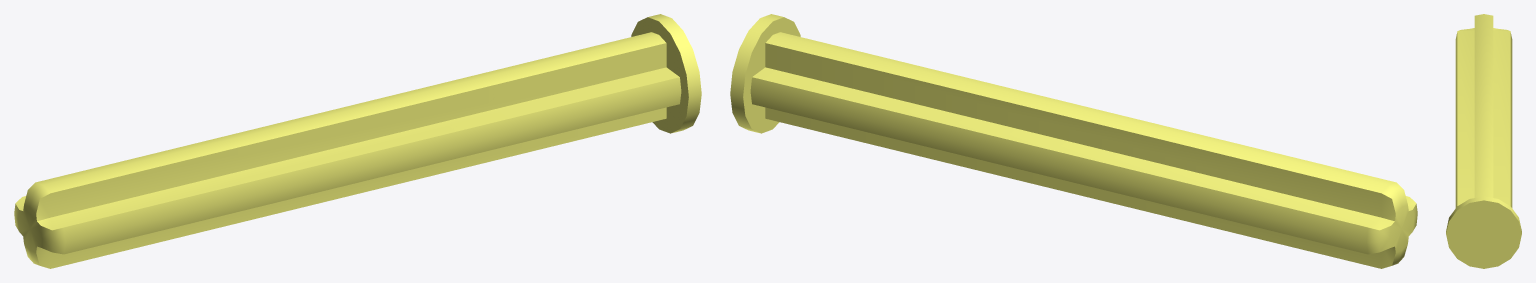
3 renders of one model, left to right at view 1: azimuth 30°, elevation 25°; view 2: azimuth 150°, elevation 25°; view 3: azimuth 270°, elevation 25°, orthographic. The views are drawn at different scales.
Visible parts, largest first — view 1: 15462.dat; view 2: 15462.dat; view 3: 15462.dat.
Part boxes in pixels (x1,y1,x2,y2): 15462.dat: (14, 14, 701, 268); 15462.dat: (730, 14, 1417, 268); 15462.dat: (1446, 14, 1521, 268).
Bounding box in the file's own units: 0.0398 × 0.0064 × 0.0064.
